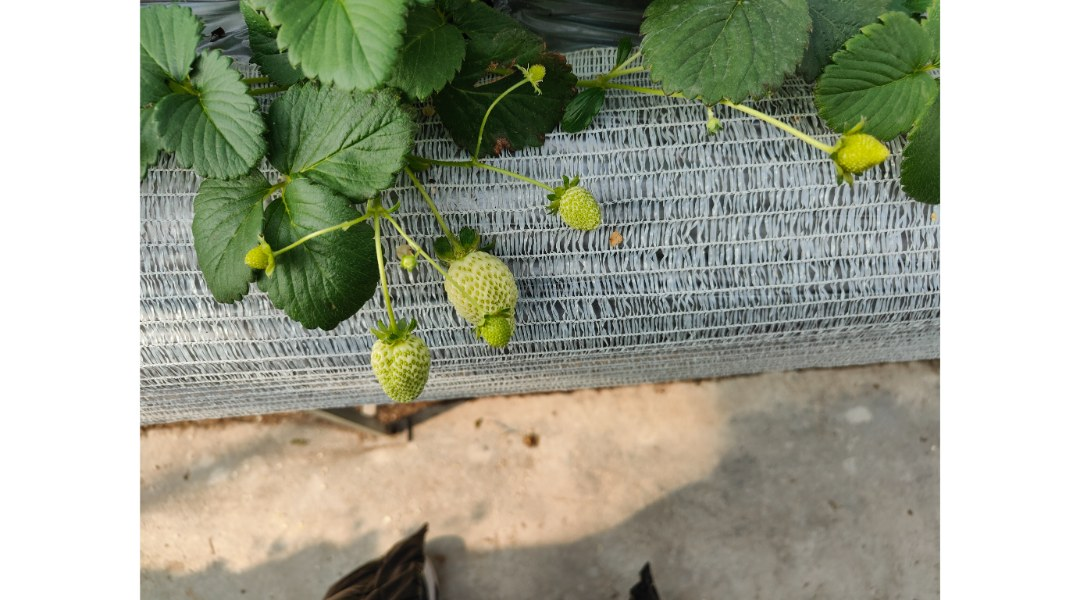berry: (433, 227, 525, 350), (359, 312, 435, 409), (820, 112, 887, 195), (544, 167, 617, 237), (475, 307, 517, 368), (244, 237, 270, 288), (514, 48, 542, 95)
strain: (730, 91, 830, 151), (462, 79, 523, 168), (279, 218, 363, 260), (410, 181, 459, 247), (615, 82, 705, 113), (388, 216, 439, 269), (477, 160, 553, 188), (373, 227, 394, 312)
